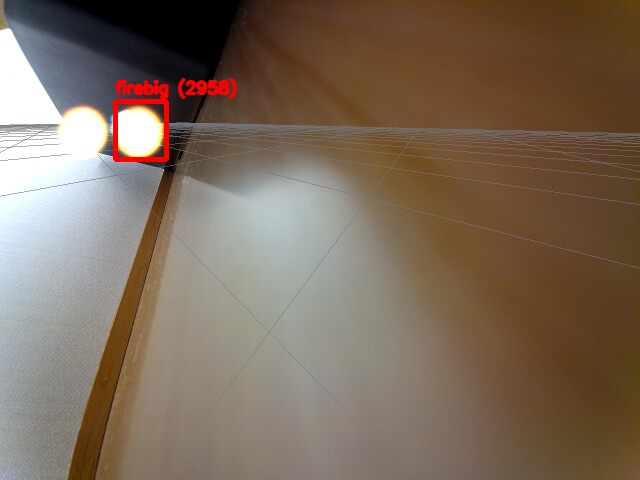firebig: (115, 101, 166, 159)
